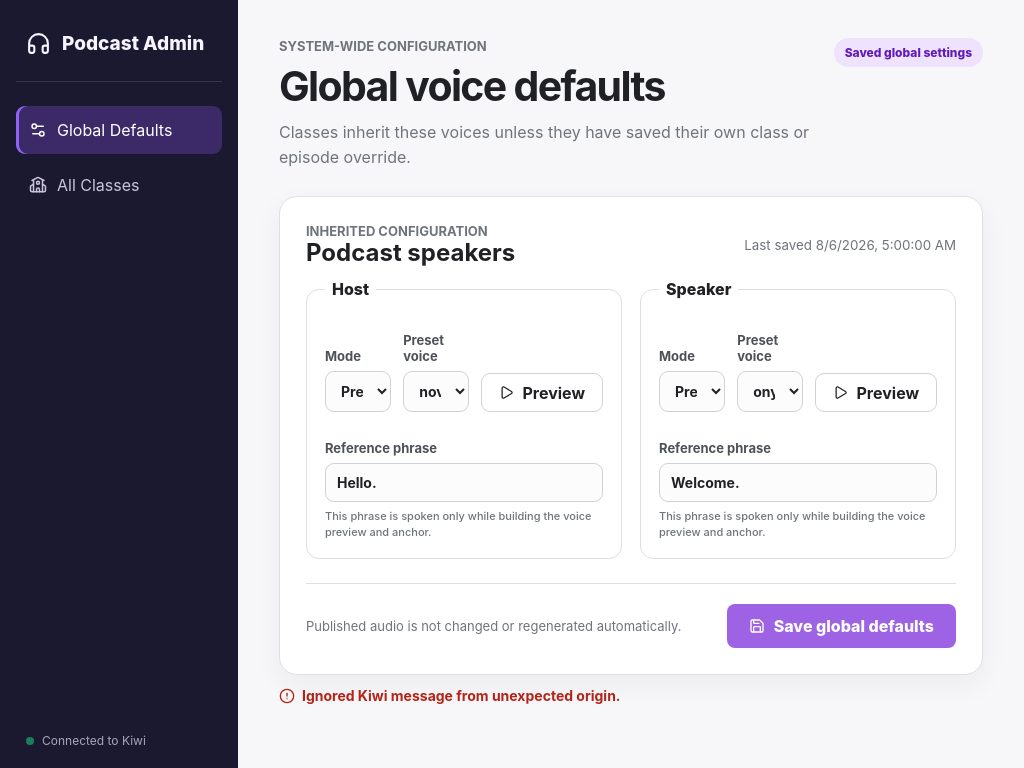
AdminApp › loads and saves defaults with the classless Kiwi bearer token
Expected: the text "Saved global settings" is shown, 834,38 -> 983,67
Select "alloy" in the dropdown labelled "Preset voice" below "Host": (436, 392) 403,371 -> 469,412
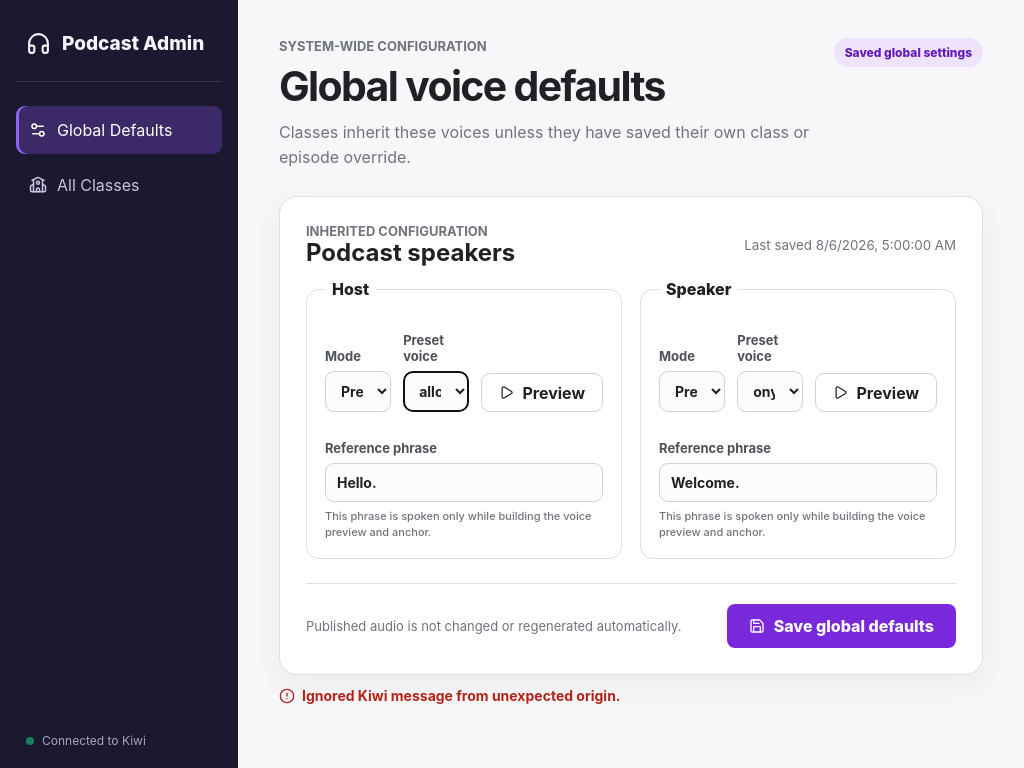
Click the button "Save global defaults": (841, 626) 727,604 -> 956,648
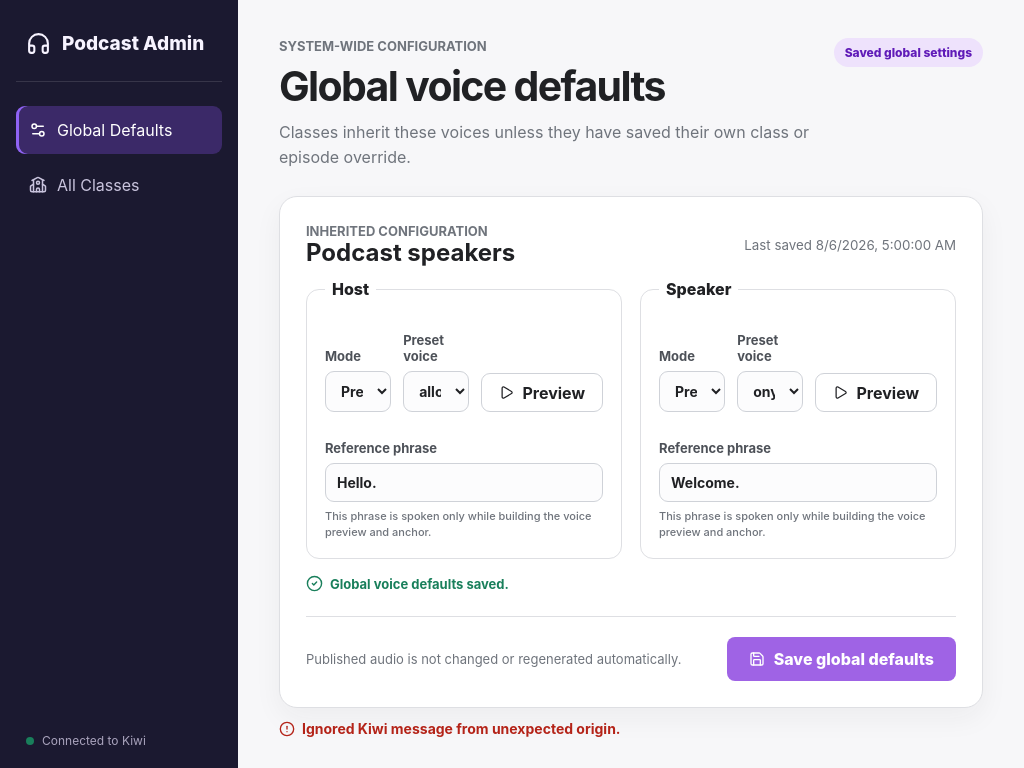
Expected: the text "Global voice defaults saved." is shown, 306,575 -> 509,592
